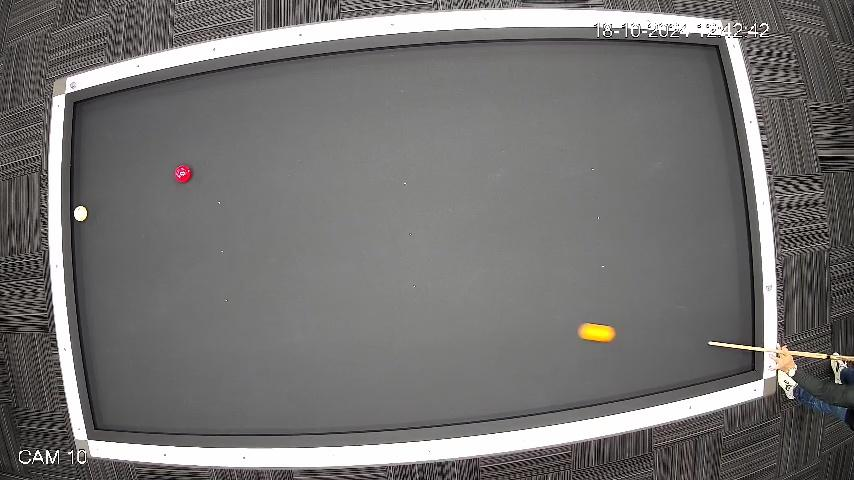Red: (174, 164, 192, 184)
White: (72, 205, 88, 223)
Yellow: (576, 322, 617, 344)
